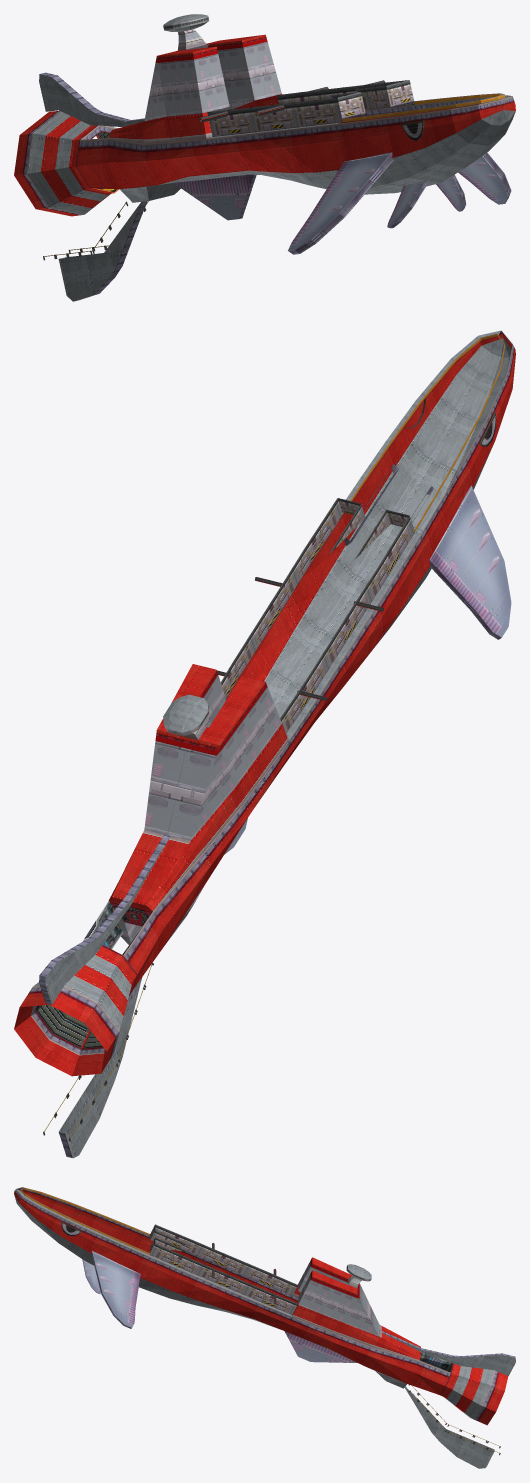
The picture shows the model from 3 angles, top to bottom: view 1: azimuth 30°, elevation 25°; view 2: azimuth 150°, elevation 25°; view 3: azimuth 270°, elevation 25°; orthographic projection. The views are drawn at different scales.
Parts seen in each view (by area): view 1: s13_on_22_3, s13_on_22_2, s13_on_22_10, s13_on_22_7, s13_on_22_6, s13_on_22_12, s13_on_22_9, s13_on_22_8, s13_on_22_1, s13_on_22_11, s13_on_22_13; view 2: s13_on_22_3, s13_on_22_2, s13_on_22_7, s13_on_22_6, s13_on_22_10, s13_on_22_12, s13_on_22_4, s13_on_22_8, s13_on_22_9, s13_on_22_1; view 3: s13_on_22_3, s13_on_22_2, s13_on_22_6, s13_on_22_10, s13_on_22_7, s13_on_22_12, s13_on_22_9, s13_on_22_8.
Part boxes in pixels (x1,y1,x2,y2): s13_on_22_3: (14, 34, 515, 301); s13_on_22_2: (39, 14, 515, 301); s13_on_22_10: (173, 152, 511, 254); s13_on_22_7: (124, 41, 281, 188); s13_on_22_6: (207, 80, 414, 136); s13_on_22_12: (27, 111, 113, 214); s13_on_22_9: (178, 29, 505, 122); s13_on_22_8: (155, 34, 267, 62); s13_on_22_1: (43, 80, 385, 260); s13_on_22_11: (163, 16, 209, 50); s13_on_22_13: (401, 120, 424, 140); s13_on_22_3: (14, 331, 515, 1157); s13_on_22_2: (45, 330, 511, 1158); s13_on_22_7: (118, 675, 281, 944); s13_on_22_6: (221, 498, 414, 733); s13_on_22_10: (224, 464, 511, 854); s13_on_22_12: (33, 953, 132, 1033); s13_on_22_4: (36, 1005, 102, 1048); s13_on_22_8: (155, 670, 267, 755); s13_on_22_9: (163, 333, 505, 735); s13_on_22_1: (43, 577, 383, 1141); s13_on_22_3: (14, 1187, 515, 1450); s13_on_22_2: (14, 1189, 515, 1468); s13_on_22_6: (149, 1224, 297, 1314); s13_on_22_10: (82, 1251, 356, 1362); s13_on_22_7: (298, 1261, 399, 1380); s13_on_22_12: (444, 1365, 493, 1418); s13_on_22_9: (20, 1188, 371, 1283); s13_on_22_8: (310, 1258, 359, 1298).
Size of the model in its own units: 682 by 1561 by 2546.
14 materials, 14 textured.
